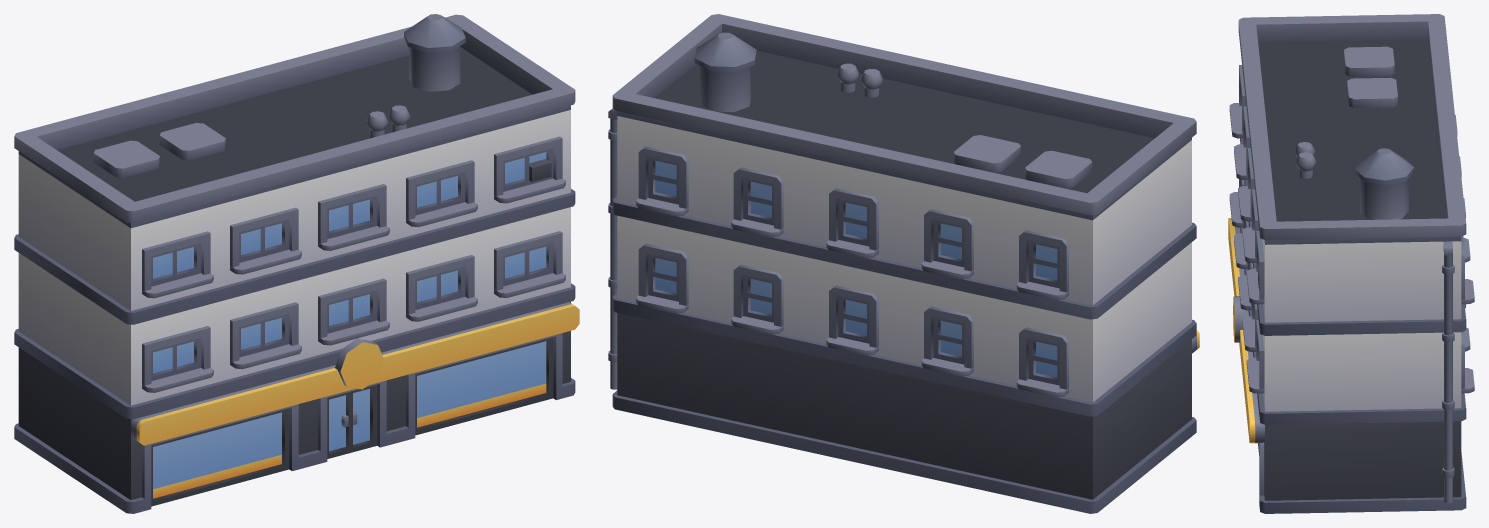
File: building11.glb
3 views of the same model, side by side, from view 1: azimuth 30°, elevation 25°; view 2: azimuth 150°, elevation 25°; view 3: azimuth 270°, elevation 25° (orthographic). The views are drawn at different scales.
Parts seen in each view (by area): view 1: building-k; view 2: building-k; view 3: building-k.
Part boxes in pixels (x1,y1,x2,y2): building-k: (14, 14, 579, 513); building-k: (608, 14, 1199, 513); building-k: (1228, 14, 1474, 513).
Bounding box in the file's own units: 14.74 × 10.4 × 7.1.
1 material, 1 textured.
